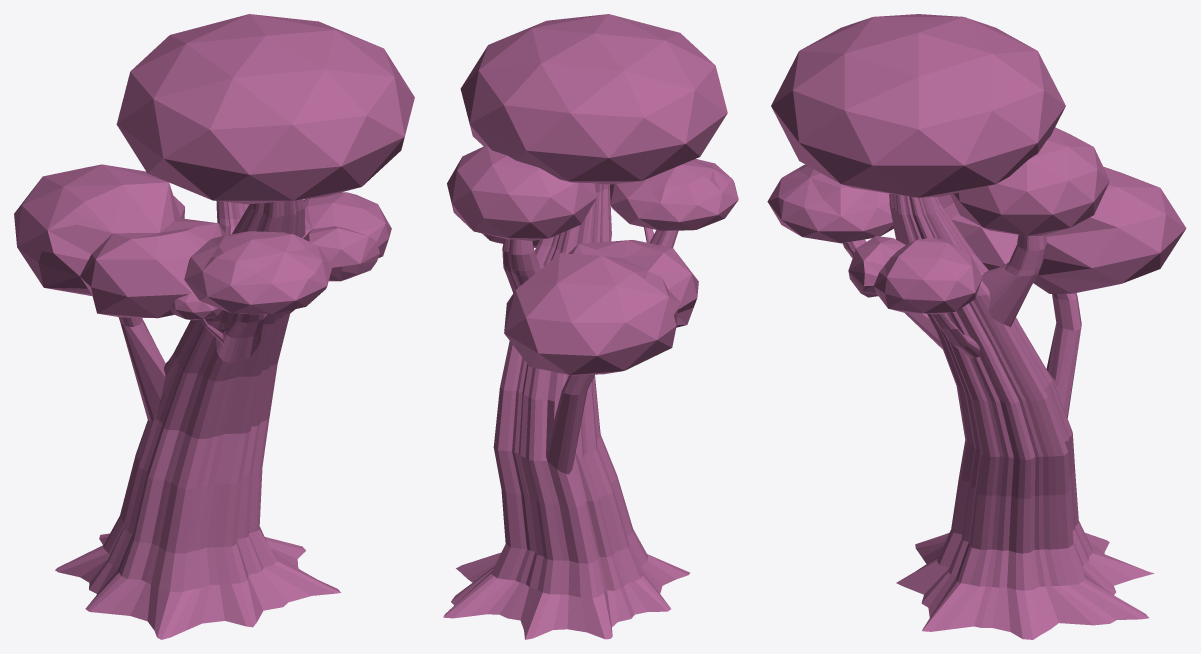
Rendered from PS_ForestTree04_V1.0.fbx.
3 views of the same model, side by side, from view 1: azimuth 30°, elevation 25°; view 2: azimuth 150°, elevation 25°; view 3: azimuth 270°, elevation 25° (orthographic). The views are drawn at different scales.
Visible parts, largest first — view 1: Cube, Cube.001, Cube.003, Cube.004, Cube.005; view 2: Cube, Cube.001, Cube.003, Cube.002; view 3: Cube, Cube.001, Cube.003, Cube.002, Cube.004.
Part boxes in pixels (left/top/right/bottom): Cube: left=55, top=199, right=340, bottom=639; Cube.001: left=116, top=14, right=414, bottom=204; Cube.003: left=14, top=164, right=225, bottom=318; Cube.004: left=302, top=192, right=391, bottom=281; Cube.005: left=171, top=292, right=223, bottom=320; Cube: left=443, top=159, right=738, bottom=639; Cube.001: left=460, top=14, right=727, bottom=184; Cube.003: left=504, top=240, right=698, bottom=375; Cube.002: left=447, top=145, right=596, bottom=240; Cube: left=767, top=164, right=1154, bottom=639; Cube.001: left=771, top=14, right=1065, bottom=197; Cube.003: left=938, top=166, right=1186, bottom=293; Cube.002: left=950, top=127, right=1109, bottom=235; Cube.004: left=848, top=236, right=982, bottom=314.
Size of the model in its own units: 4474 by 8651 by 5847.
